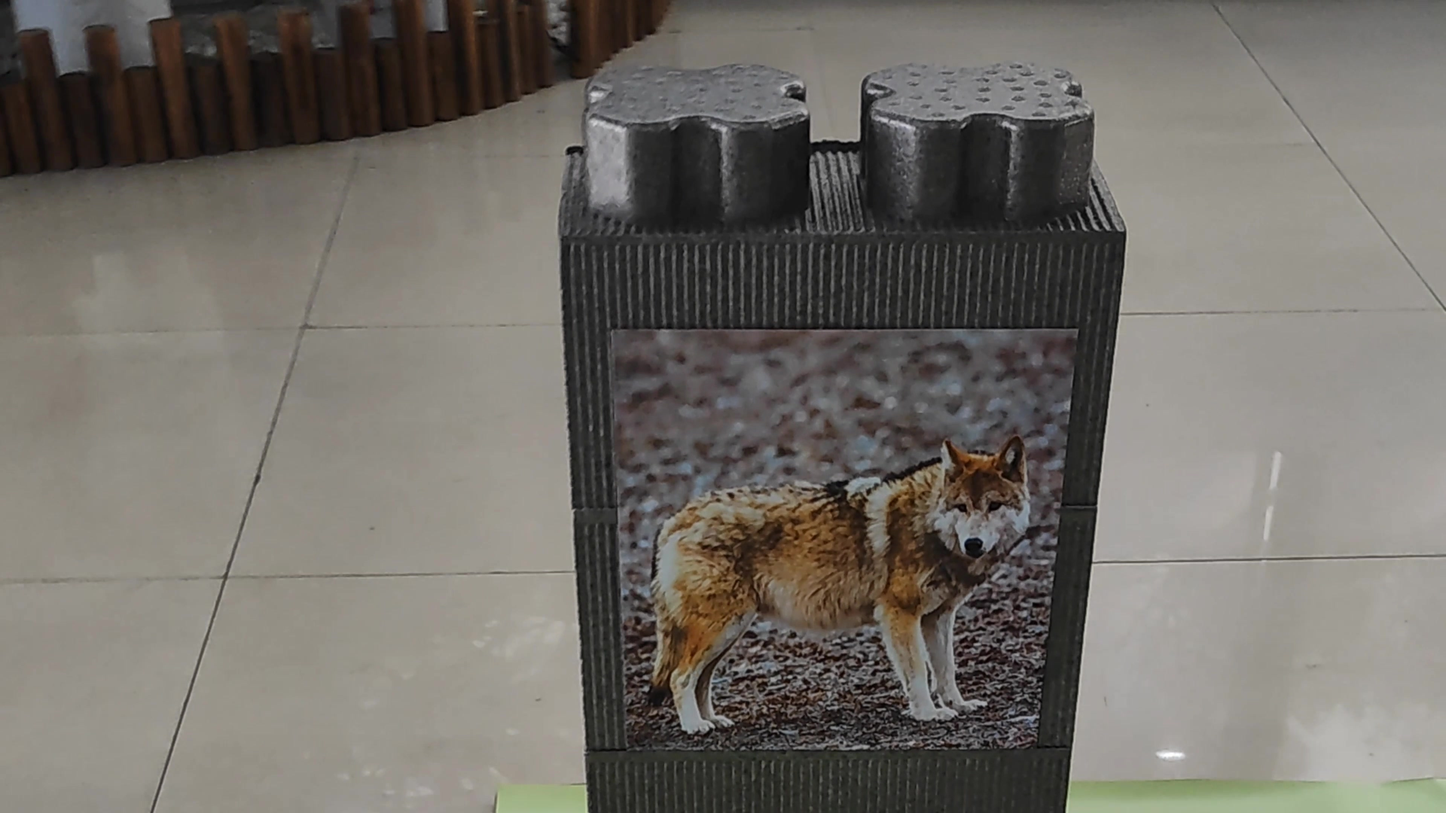wolf: (605, 425, 1042, 742)
